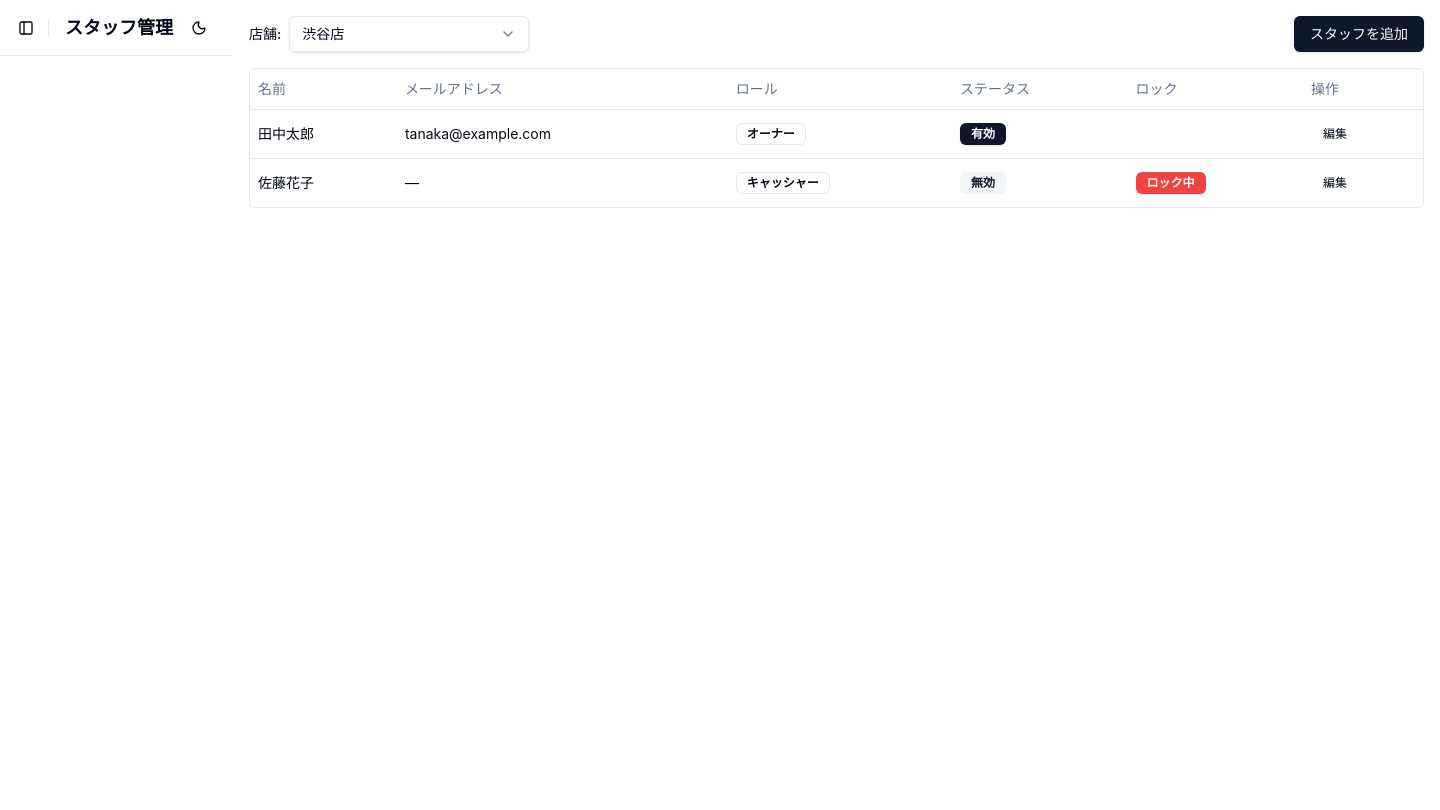
it: StaffPage › 編集ボタンで編集ダイアログが開く
The image size is (1440, 810).
expect the text "田中太郎" is shown: met, box [250, 109, 397, 158]
Click the button "編集" in the row of "田中太郎": (1335, 134) [1311, 118, 1359, 150]
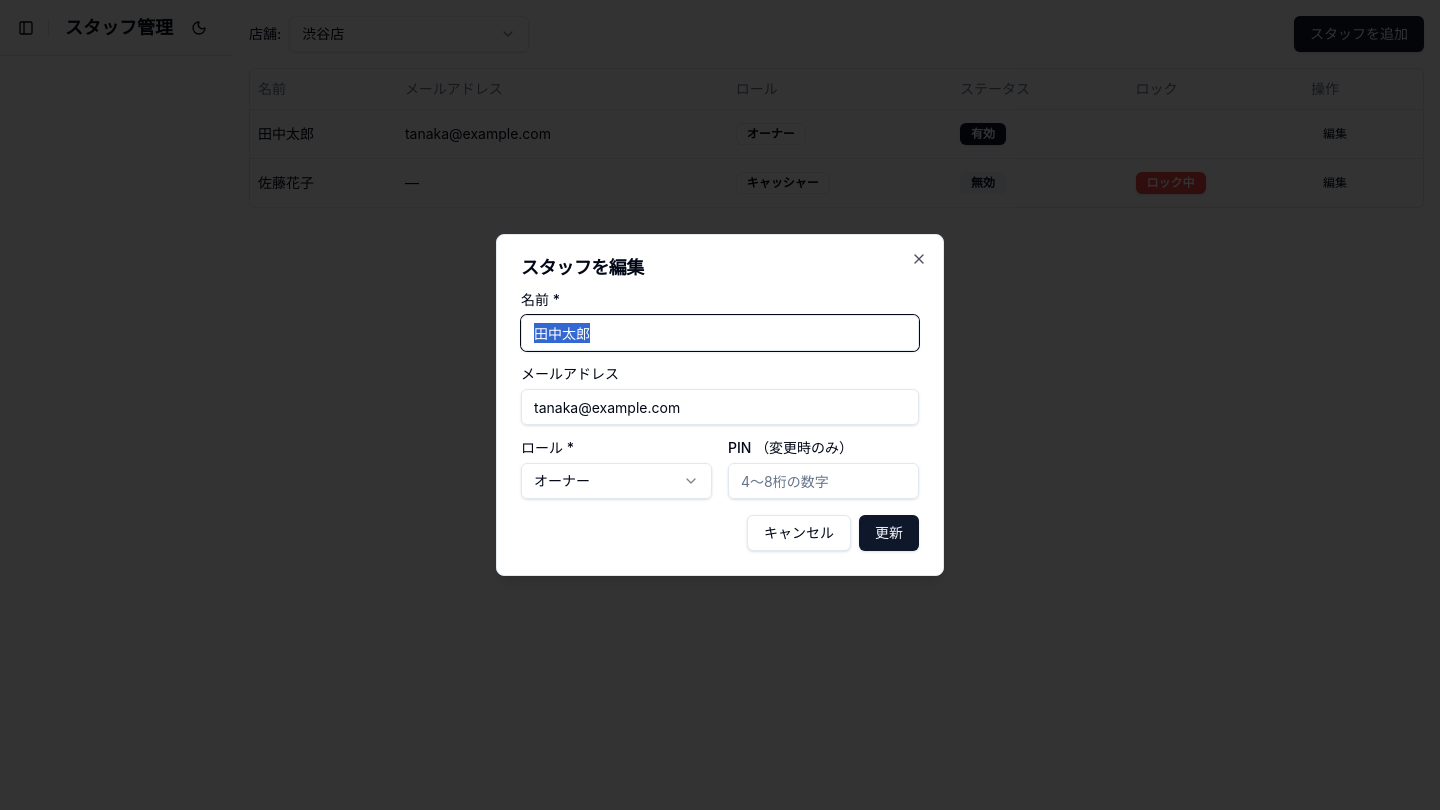
expect the heading "スタッフを編集" is shown: met, box [521, 257, 644, 278]
expect the field showing "田中太郎" is shown: met, box [521, 315, 919, 351]
